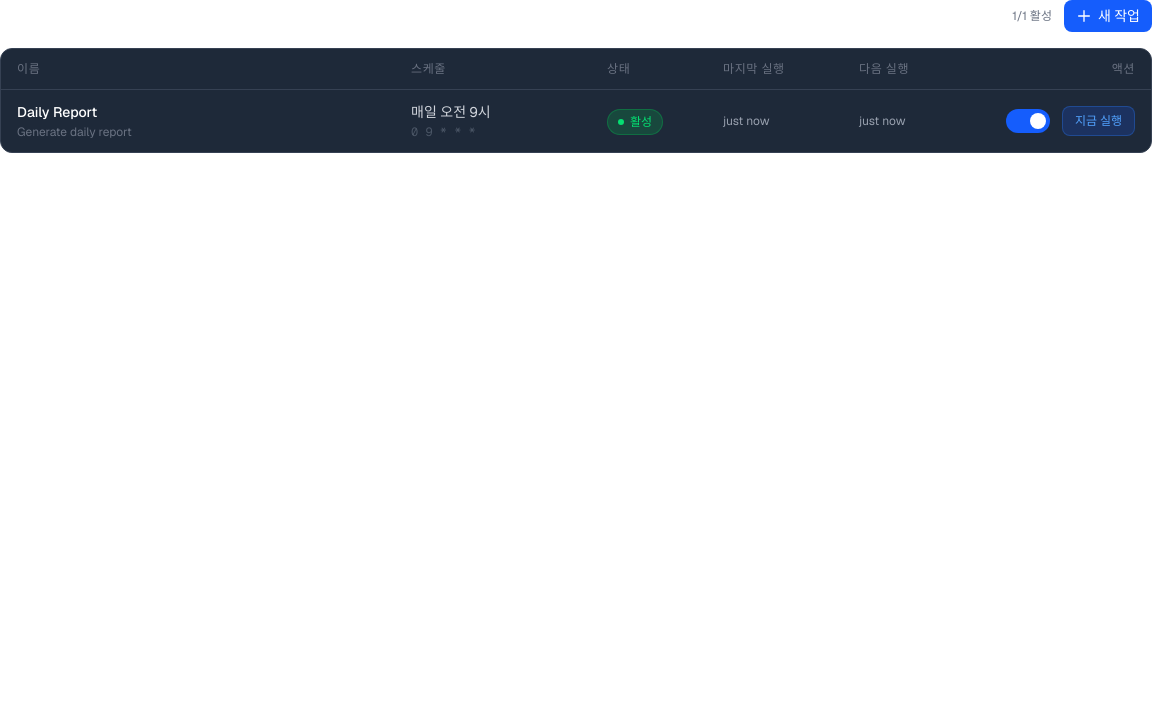
Test case: CronJobsPanel › CreateJobModal open/close › closes CreateJobModal when 취소 button is clicked
The width and height of the screenshot is (1152, 720).
Click the button "새 작업" at (1108, 16), box [1064, 0, 1151, 32]
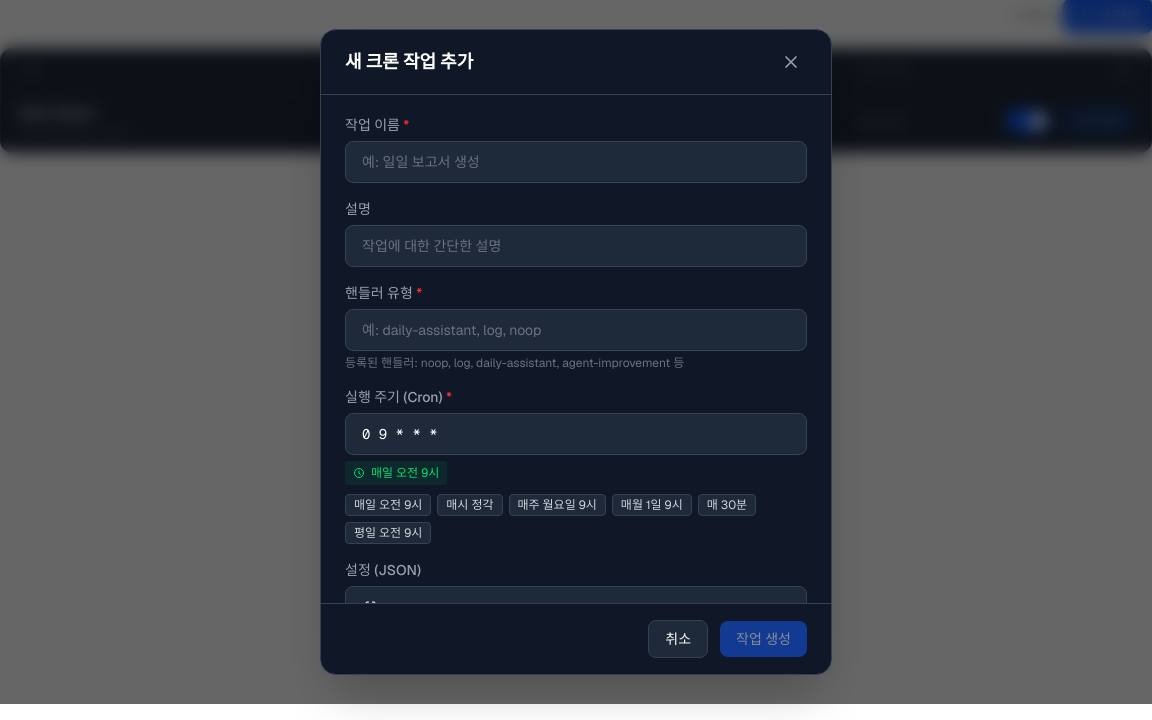
Expected: the heading "새 크론 작업 추가" is shown, [345, 48, 473, 76]
Click the button "취소" at (678, 639), box [648, 620, 708, 658]
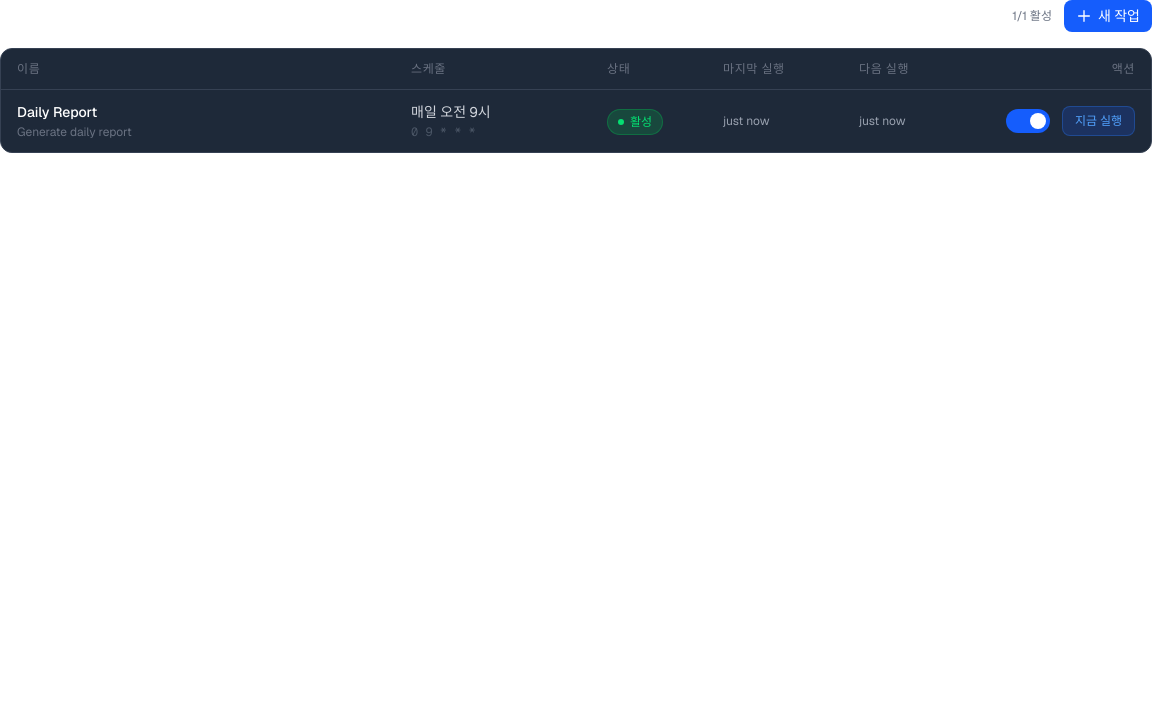
Expected: the heading "새 크론 작업 추가" is gone
